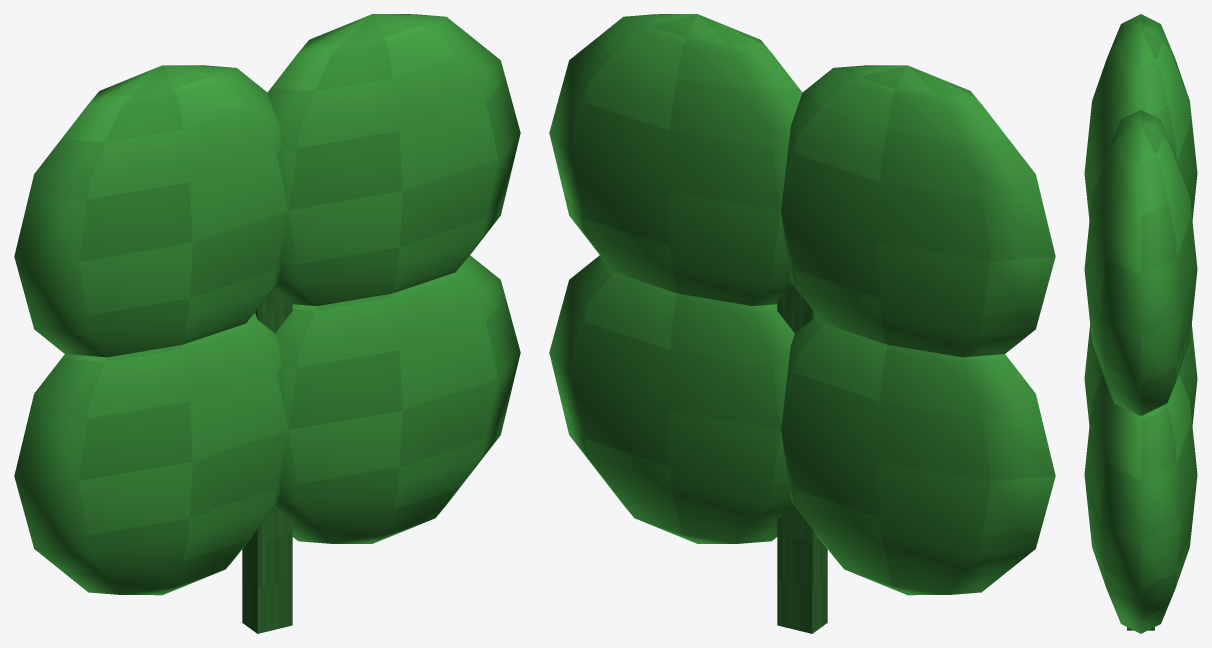
File: trebol.glb
The picture shows the model from 3 angles, left to right: view 1: azimuth 30°, elevation 25°; view 2: azimuth 150°, elevation 25°; view 3: azimuth 270°, elevation 25°; orthographic projection. The views are drawn at different scales.
Parts seen in each view (by area): view 1: trebol; view 2: trebol; view 3: trebol.
Boxes of the visible parts, x1,y1,x2,y2 form: trebol: (14, 14, 520, 633); trebol: (549, 14, 1055, 633); trebol: (1084, 14, 1197, 633).
Bounding box in the file's own units: 0.5804 × 0.6402 × 0.12.
2 materials, 2 textured.
